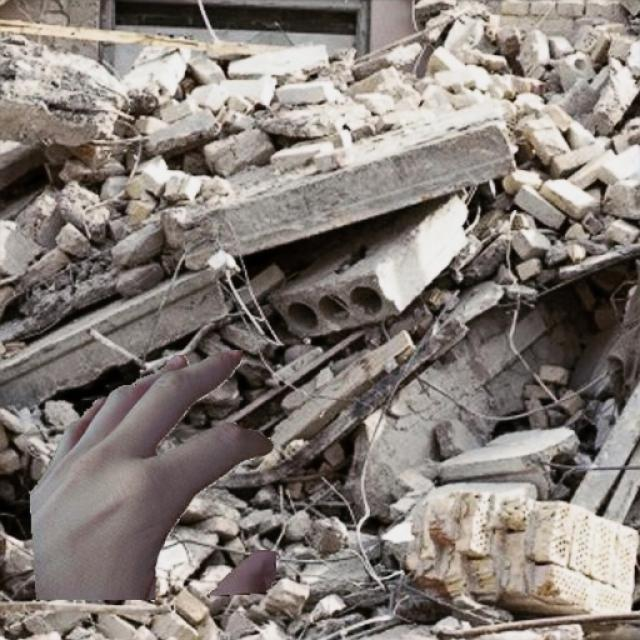Person in Rubble: (29, 350, 275, 599)
